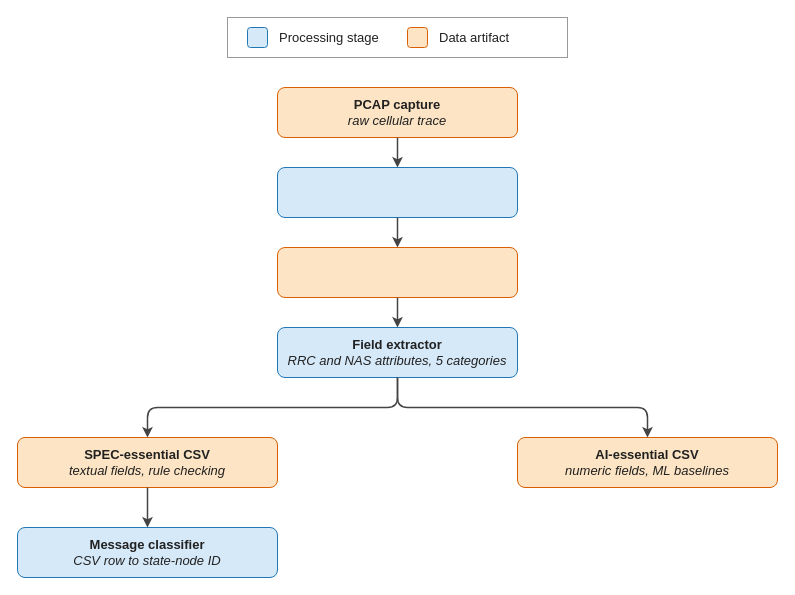
This 795x595 diagram has some shape labels left out. The centre of each missing label's shape, as x and y in pixels:
PDML document per-packet XML tree: point (397, 272)
ws_dissector Wireshark CLI dissector: point (397, 192)
